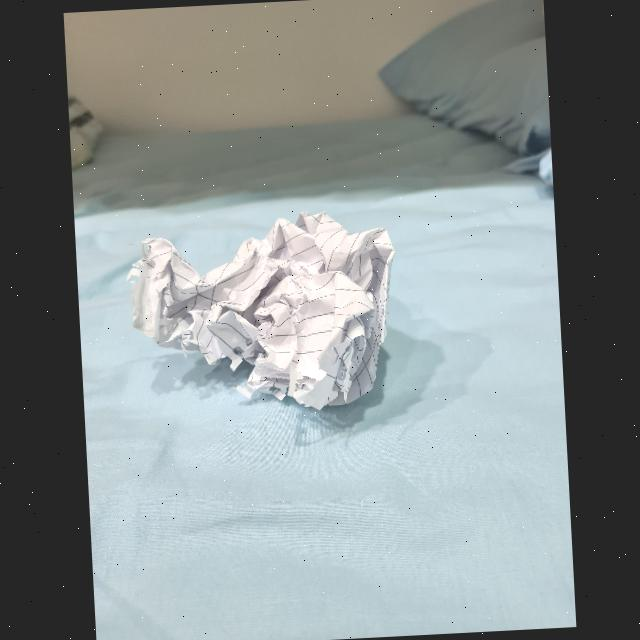trash: (129, 212, 404, 418)
